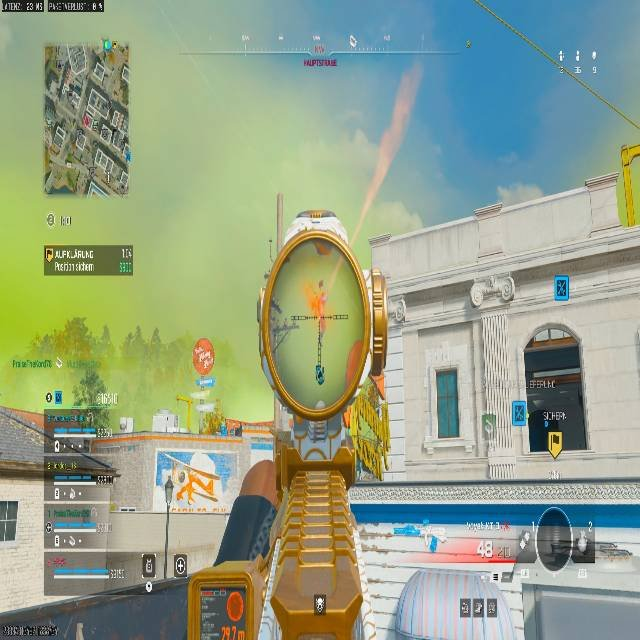player: (314, 362, 324, 384)
